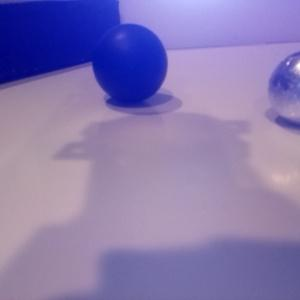alive_ball: (268, 51, 300, 124)
dead_ball: (92, 23, 169, 102)
